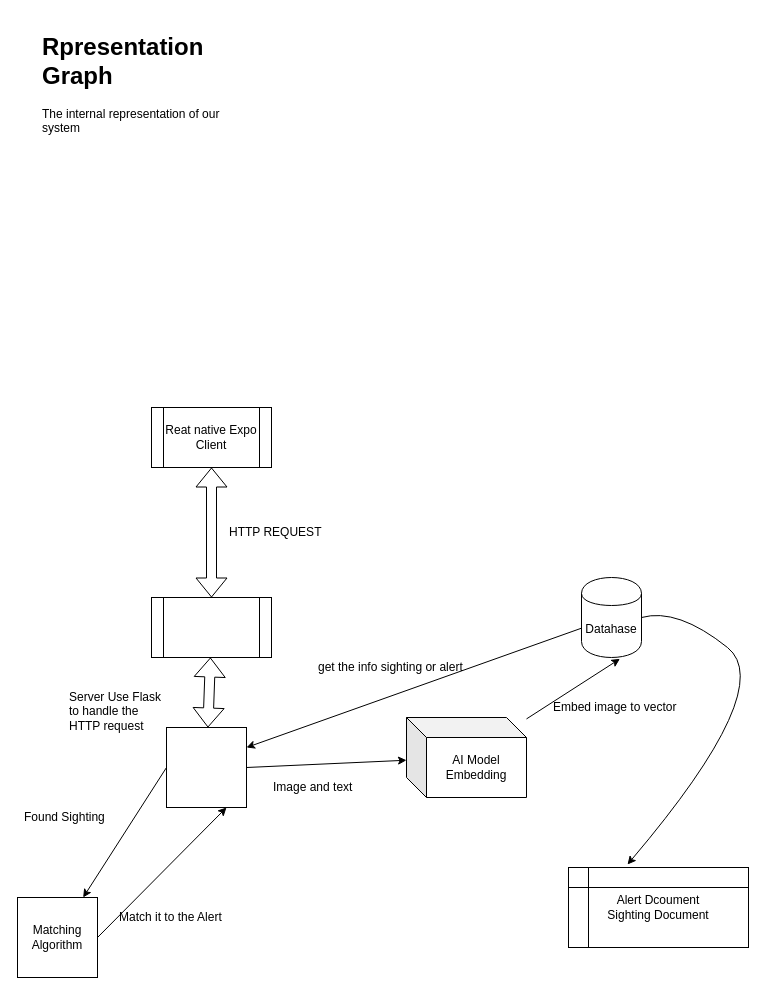
Some shapes in this 766 by 995 pixel diagram are drawn without their labels. The centre of each missing label's shape, as x and y in pixels:
"Flask" belongs at point (206, 767).
"Server" belongs at point (211, 627).
